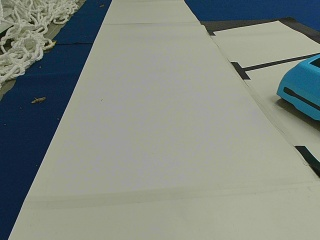car: (275, 52, 318, 120)
